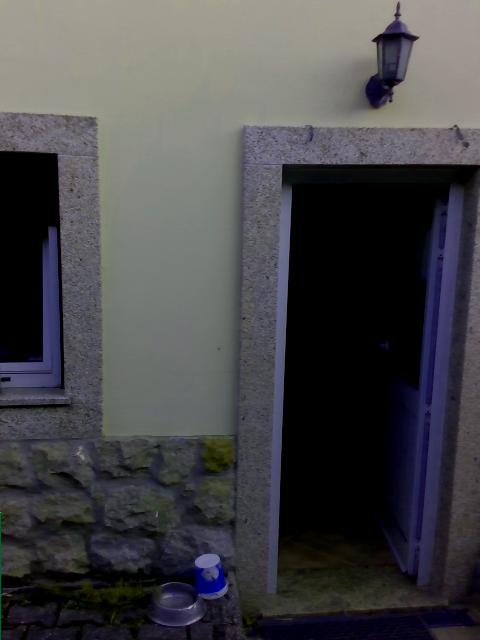open_door: (267, 162, 479, 600)
